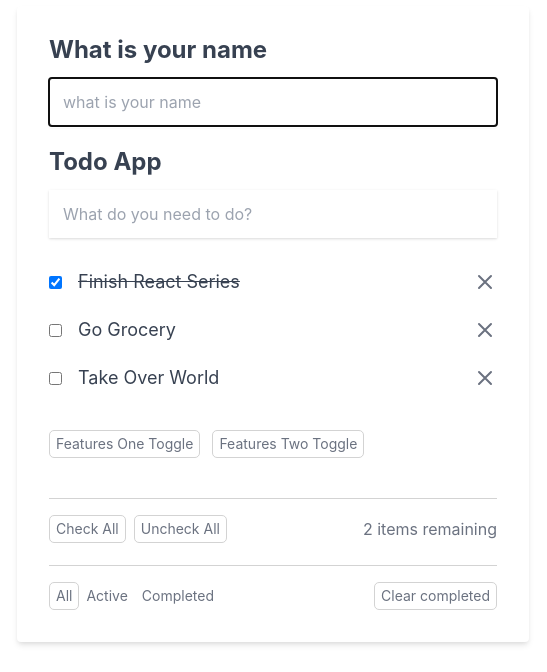
Test: can put  a todo to edit mode and commit a change by pressing enter
Double-click the text "Finish React Series" at (159, 282), box [78,273,240,291]
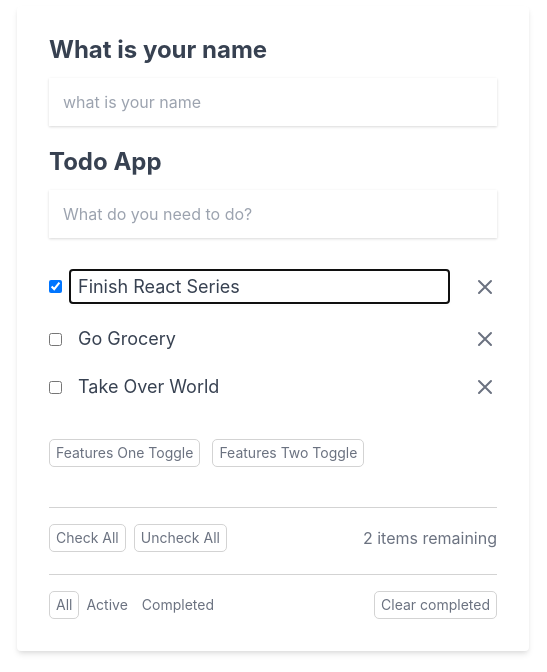
Now the field showing "Finish React Series" is shown
Type " today" into the field showing "Finish React Series" at (260, 286), box [70,270,449,303]
Then press Enter
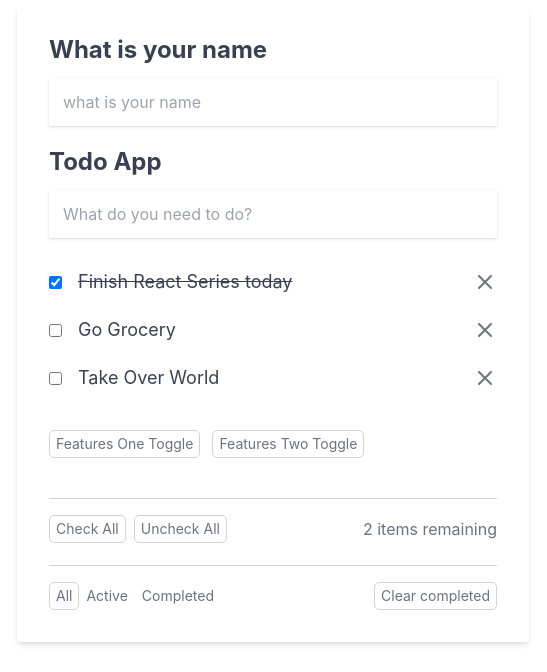
Now the text "Finish React Series today" is shown, box [78,273,292,291]
